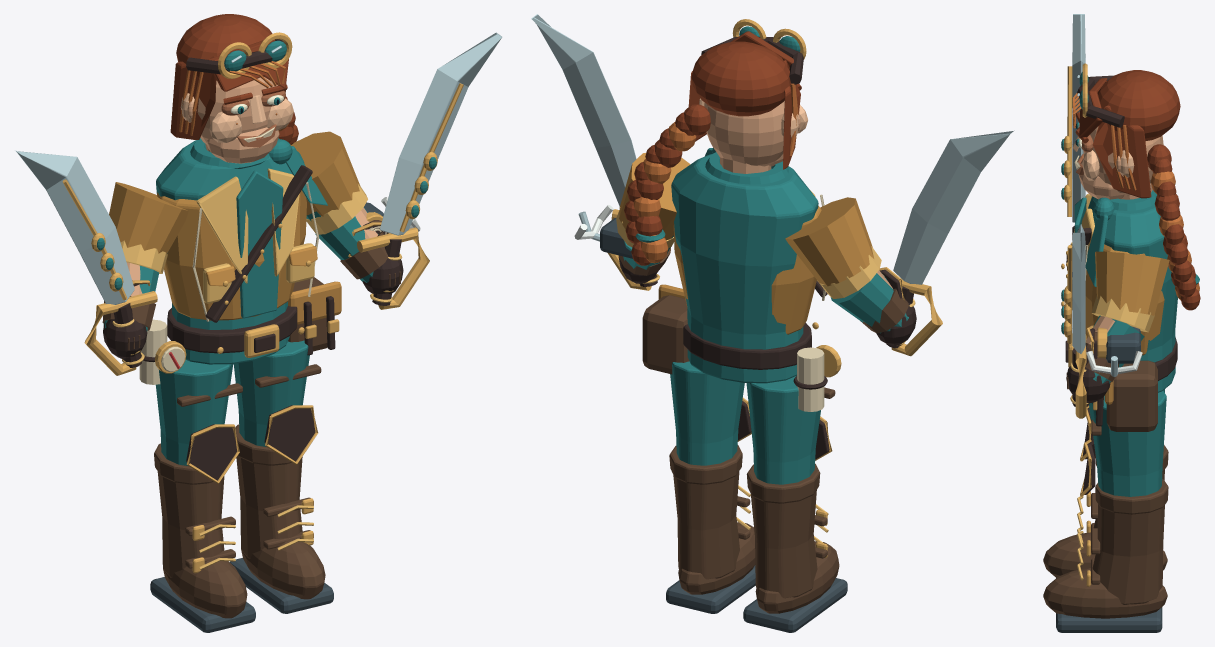
Rendered from explorer.glb.
3 renders of one model, left to right at view 1: azimuth 30°, elevation 25°; view 2: azimuth 150°, elevation 25°; view 3: azimuth 270°, elevation 25°, orthographic. The views are drawn at different scales.
Parts seen in each view (by area): view 1: Explorer — expedition teal mesh, Leather edge mesh.002, Leather edge mesh, Explorer — waxed ochre canvas mesh, Explorer — auburn hair mesh, Moon silver mesh.002, Moon silver mesh.001, Weathered dark leather mesh.004, Explorer — golden canvas seam mesh, Explorer — expedition teal mesh.001, Explorer — expedition teal mesh.003, Explorer — waxed ochre canvas mesh.001 (+25 smaller); view 2: Explorer — expedition teal mesh, Explorer — auburn hair mesh, Leather edge mesh, Leather edge mesh.002, Moon silver mesh.001, Explorer — expedition teal mesh.001, Explorer — expedition teal mesh.003, Moon silver mesh.002, Explorer — waxed ochre canvas mesh.001, Explorer — freckled warm skin mesh, Explorer — waxed ochre canvas mesh, Weathered dark leather mesh.004 (+13 smaller); view 3: Leather edge mesh.002, Explorer — auburn hair mesh, Explorer — expedition teal mesh, Explorer — expedition teal mesh.003, Explorer — waxed ochre canvas mesh.002, Leather edge mesh.004, Leather edge mesh, Forged black steel mesh.001, Moon silver mesh.002, Moon silver mesh.001, Explorer — copper hair strand mesh, Explorer — waxed ochre canvas mesh (+20 smaller).
Boxes of the visible parts, x1,y1,x2,y2 form: Explorer — expedition teal mesh: [156, 138, 327, 364]; Leather edge mesh.002: [235, 364, 325, 599]; Leather edge mesh: [154, 383, 247, 618]; Explorer — waxed ochre canvas mesh: [157, 190, 341, 324]; Explorer — auburn hair mesh: [170, 14, 298, 144]; Moon silver mesh.002: [380, 32, 502, 235]; Moon silver mesh.001: [15, 150, 134, 304]; Weathered dark leather mesh.004: [143, 165, 335, 362]; Explorer — golden canvas seam mesh: [196, 168, 314, 303]; Explorer — expedition teal mesh.001: [155, 360, 233, 465]; Explorer — expedition teal mesh.003: [233, 340, 309, 446]; Explorer — waxed ochre canvas mesh.001: [109, 182, 188, 254]; Explorer — expedition teal mesh: [671, 147, 818, 383]; Explorer — auburn hair mesh: [624, 31, 801, 265]; Leather edge mesh: [746, 387, 839, 613]; Leather edge mesh.002: [669, 445, 755, 594]; Moon silver mesh.001: [893, 130, 1014, 284]; Explorer — expedition teal mesh.001: [746, 376, 820, 484]; Explorer — expedition teal mesh.003: [670, 361, 744, 465]; Moon silver mesh.002: [531, 14, 636, 206]; Explorer — waxed ochre canvas mesh.001: [785, 197, 873, 286]; Explorer — freckled warm skin mesh: [704, 101, 800, 173]; Explorer — waxed ochre canvas mesh: [658, 206, 821, 334]; Weathered dark leather mesh.004: [683, 281, 827, 389]; Leather edge mesh.002: [1043, 419, 1168, 618]; Explorer — auburn hair mesh: [1075, 70, 1200, 310]; Explorer — expedition teal mesh: [1074, 190, 1177, 392]; Explorer — expedition teal mesh.003: [1089, 391, 1166, 496]; Explorer — waxed ochre canvas mesh.002: [1095, 251, 1169, 315]; Leather edge mesh.004: [1106, 360, 1157, 431]; Leather edge mesh: [1043, 445, 1168, 577]; Forged black steel mesh.001: [1056, 607, 1162, 632]; Moon silver mesh.002: [1072, 224, 1085, 353]; Moon silver mesh.001: [1072, 14, 1085, 222]; Explorer — copper hair strand mesh: [1072, 93, 1199, 300]; Explorer — waxed ochre canvas mesh: [1067, 244, 1164, 404].
Bounding box in the file's own units: 2.02 × 2.29 × 0.613.
